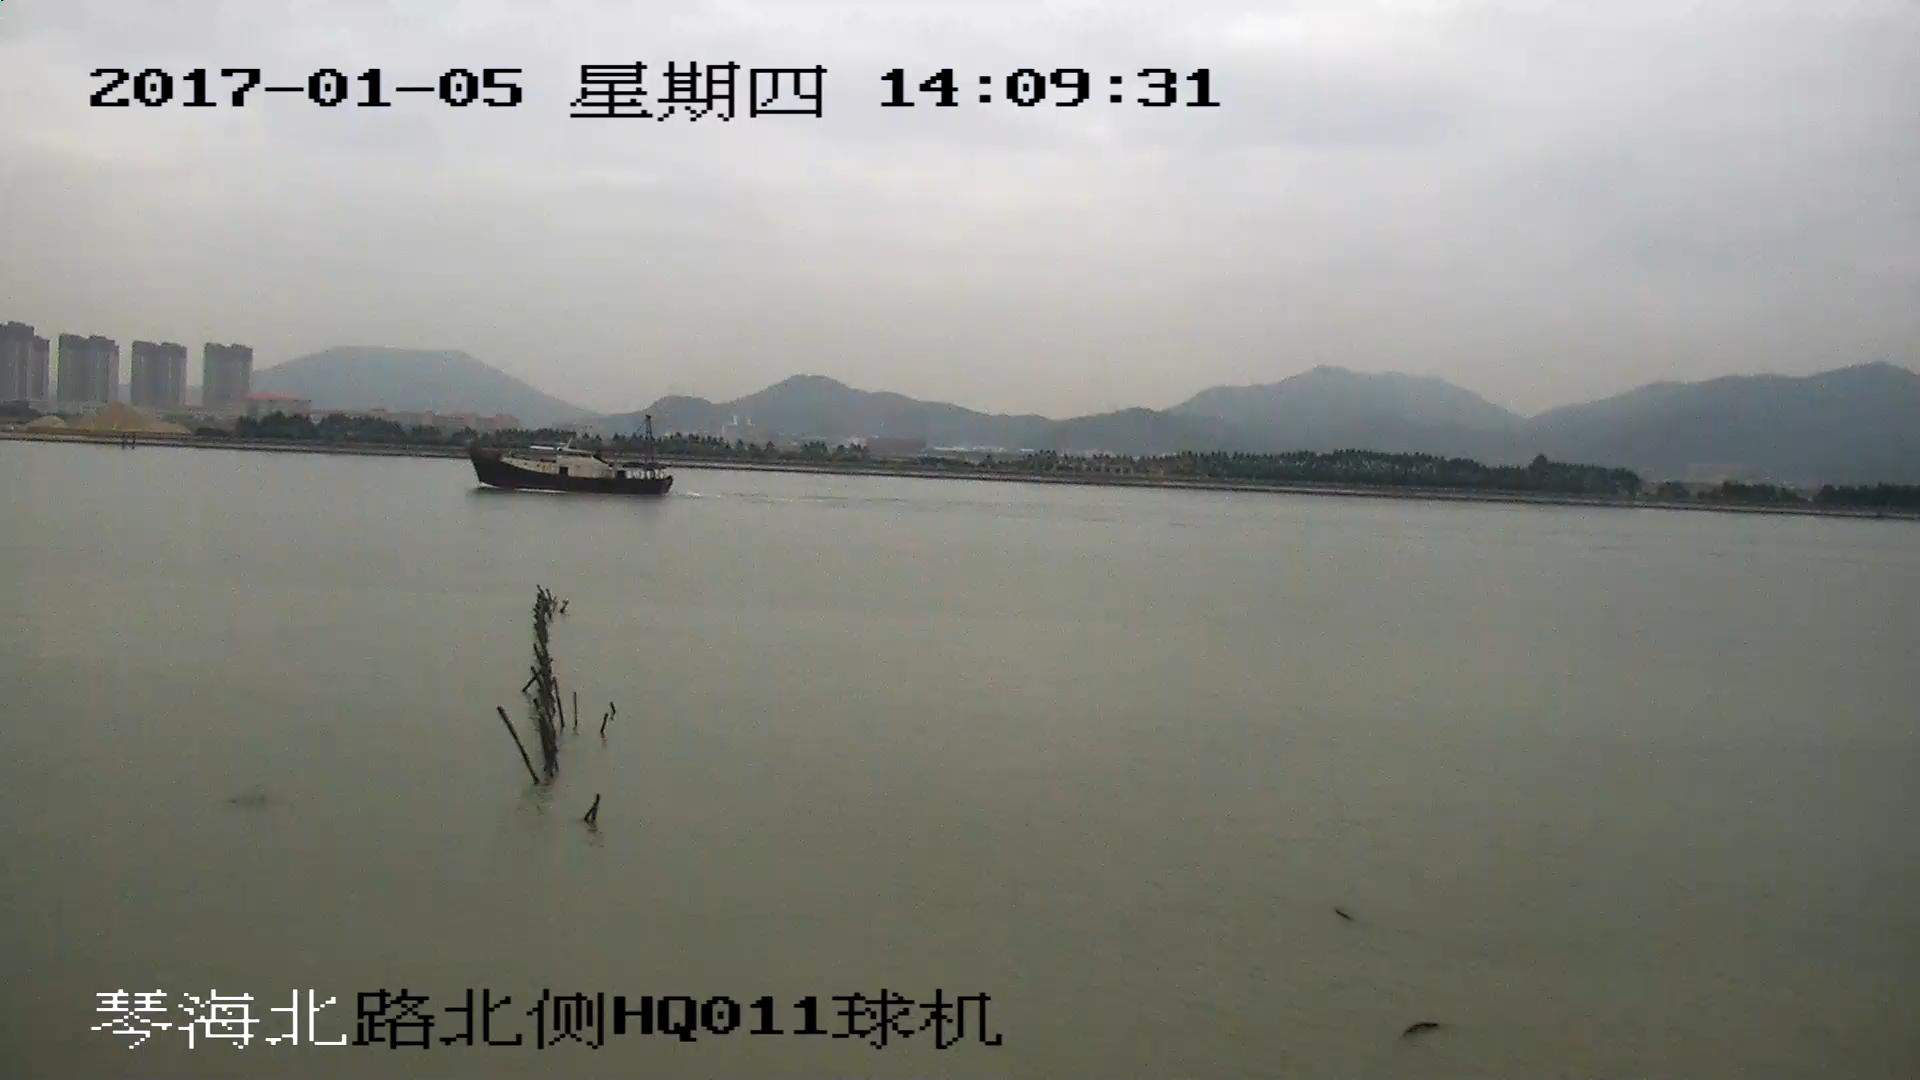fishing boat: (467, 413, 674, 498)
